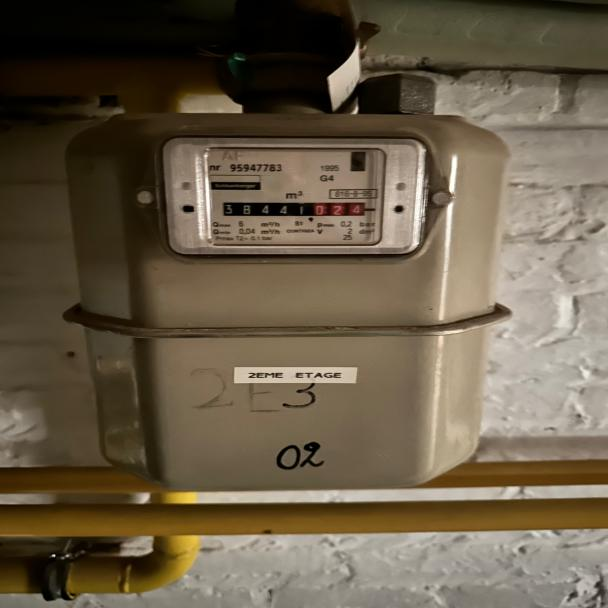0: (314, 204, 328, 216)
1: (294, 204, 311, 216)
2: (330, 203, 347, 215)
3: (223, 203, 237, 215)
4: (256, 203, 274, 216), (348, 204, 365, 216), (276, 204, 292, 216)
8: (240, 204, 253, 215)
cm: (312, 202, 366, 216)
counter: (222, 203, 314, 216)
